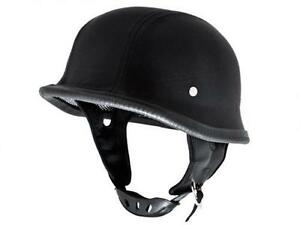with_helmet: (35, 4, 269, 151)
